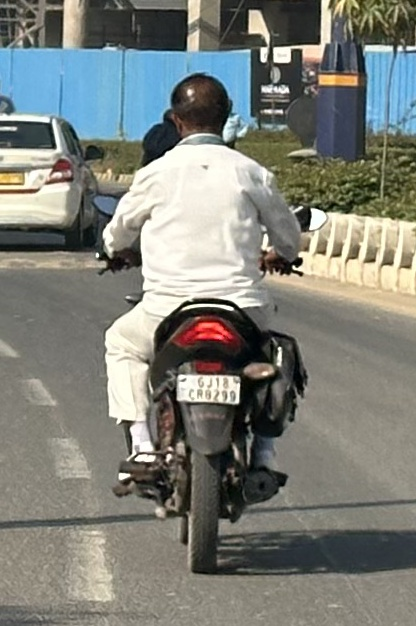BikeWithRider: (92, 66, 328, 586)
NoHelmet: (164, 66, 233, 151)
